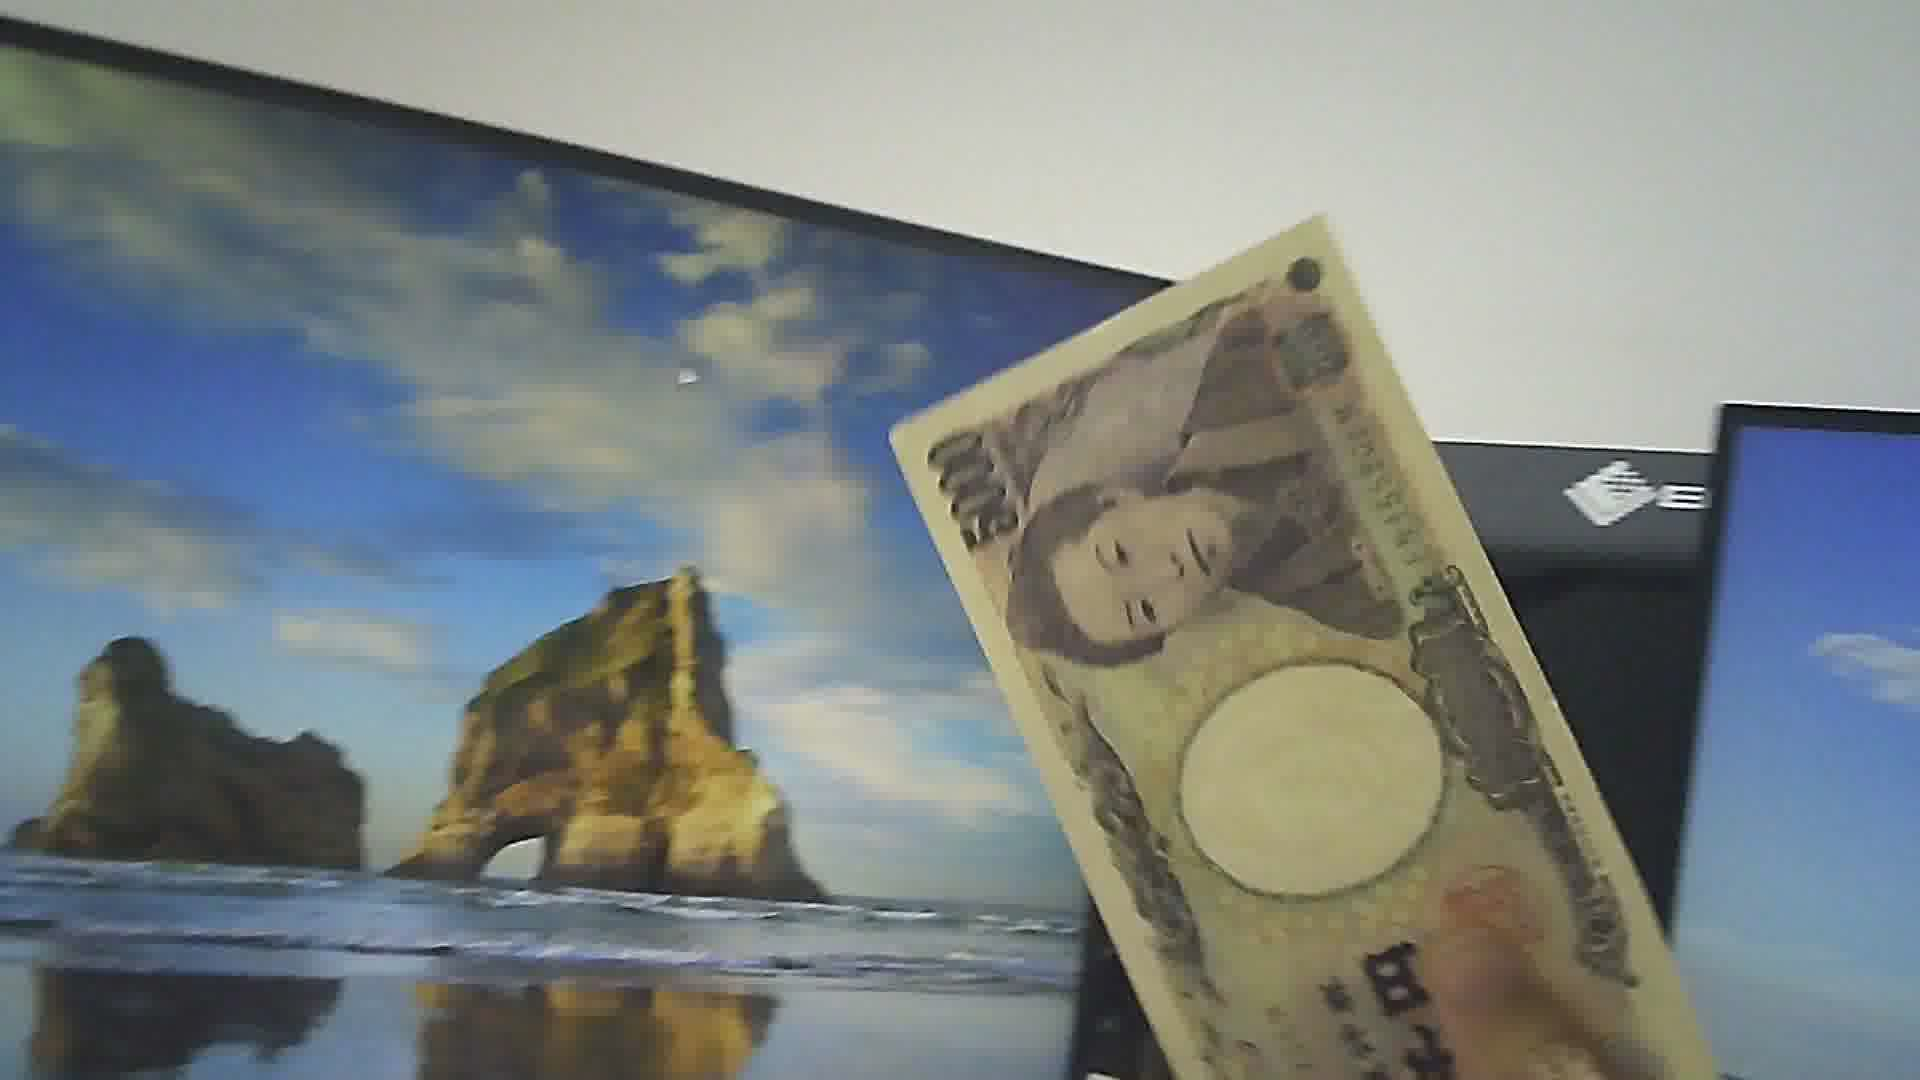5,000 Yen: (874, 208, 1731, 1079)
